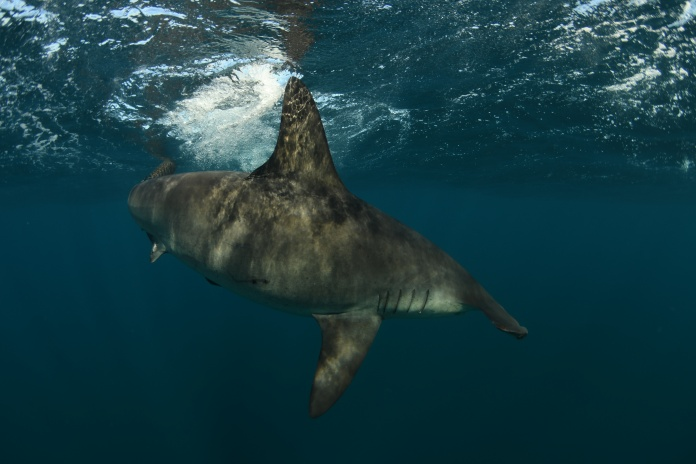Hammer: (89, 55, 564, 432)
